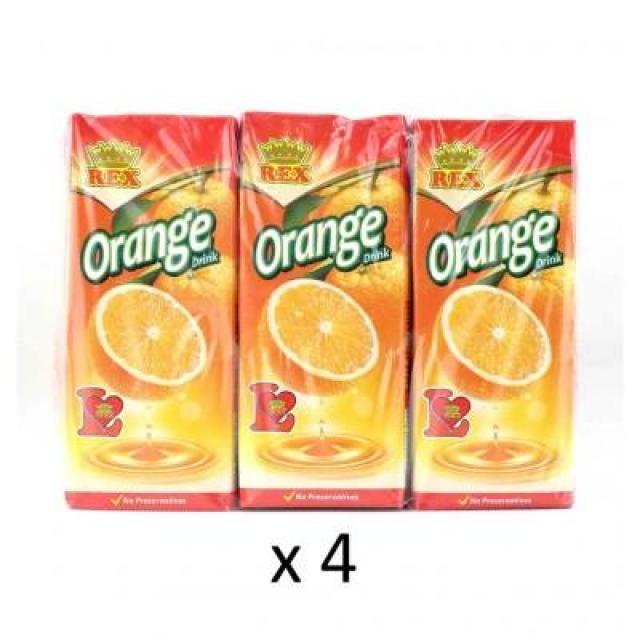drink carton: (68, 104, 238, 512), (243, 108, 410, 512), (414, 112, 576, 513)
